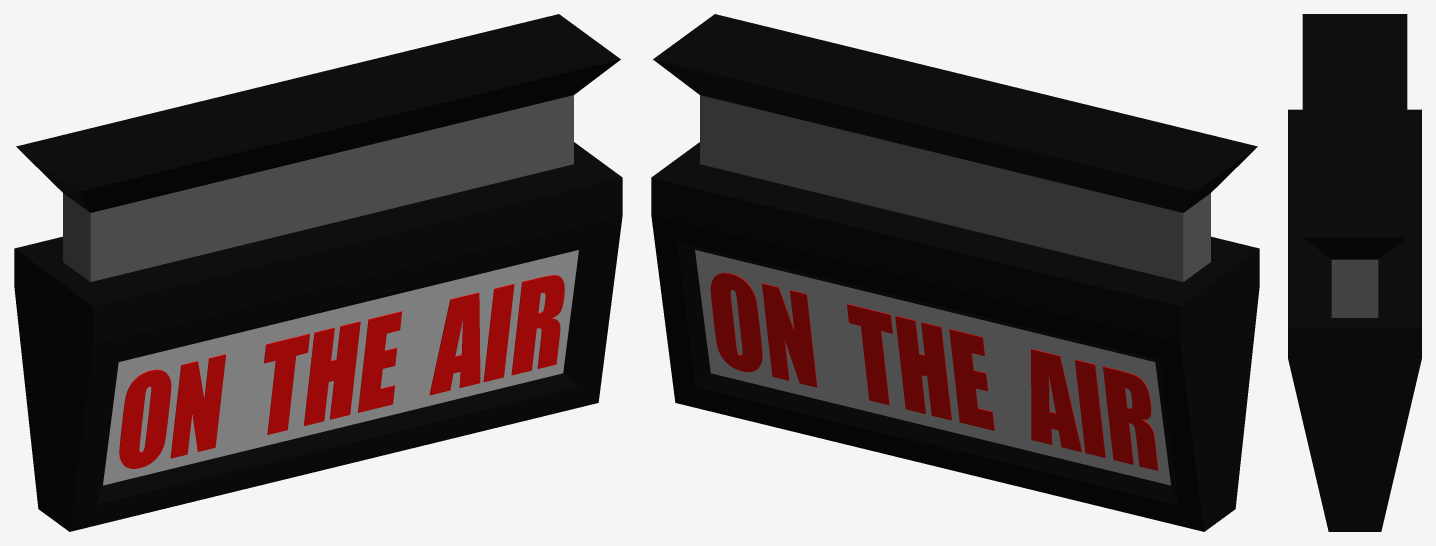
The model's file is OnTheAirSign.FBX.
3 views of the same model, side by side, from view 1: azimuth 30°, elevation 25°; view 2: azimuth 150°, elevation 25°; view 3: azimuth 270°, elevation 25° (orthographic). The views are drawn at different scales.
Parts seen in each view (by area): view 1: Box047; view 2: Box047; view 3: Box047.
Part boxes in pixels (x1,y1,x2,y2): Box047: (14,14,622,531); Box047: (651,14,1259,531); Box047: (1288,14,1421,531).
Size of the model in its own units: 46.64 by 28.96 by 11.81.
